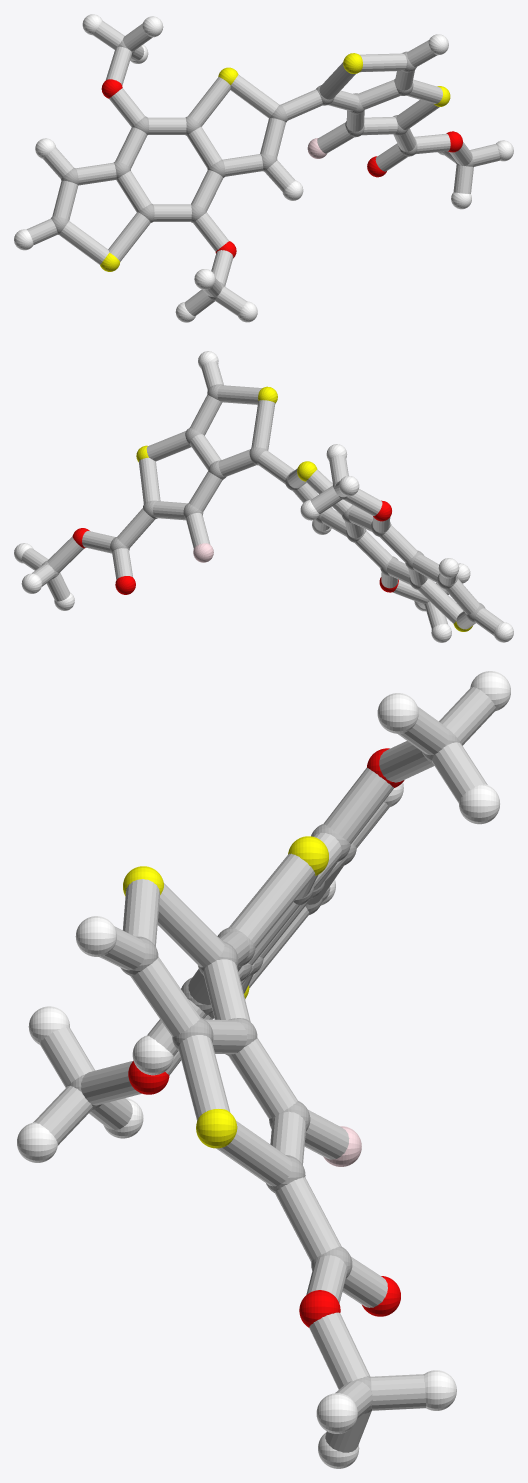
The model's file is color.glb.
The picture shows the model from 3 angles, top to bottom: view 1: azimuth 30°, elevation 25°; view 2: azimuth 150°, elevation 25°; view 3: azimuth 270°, elevation 25°; orthographic projection. The views are drawn at different scales.
Parts seen in each view (by area): view 1: grp15205, grp8689, grp1, grp7241, grp13395; view 2: grp15205, grp8689, grp1, grp13395, grp7241; view 3: grp15205, grp8689, grp1, grp7241, grp13395.
Part boxes in pixels (x1=…): grp15205: x1=26, y1=20, x2=500, y2=315; grp8689: x1=14, y1=14, x2=513, y2=322; grp1: x1=51, y1=39, x2=473, y2=300; grp7241: x1=100, y1=53, x2=450, y2=271; grp13395: x1=101, y1=79, x2=462, y2=258; grp15205: x1=21, y1=361, x2=503, y2=635; grp8689: x1=14, y1=351, x2=513, y2=642; grp1: x1=41, y1=384, x2=485, y2=622; grp13395: x1=72, y1=500, x2=398, y2=594; grp7241: x1=136, y1=386, x2=472, y2=631; grp15205: x1=33, y1=687, x2=495, y2=1452; grp8689: x1=17, y1=671, x2=510, y2=1468; grp1: x1=68, y1=728, x2=460, y2=1414; grp7241: x1=123, y1=836, x2=328, y2=1148; grp13395: x1=128, y1=748, x2=404, y2=1327.
Size of the model in its own units: 16.5 by 7.89 by 7.18.
